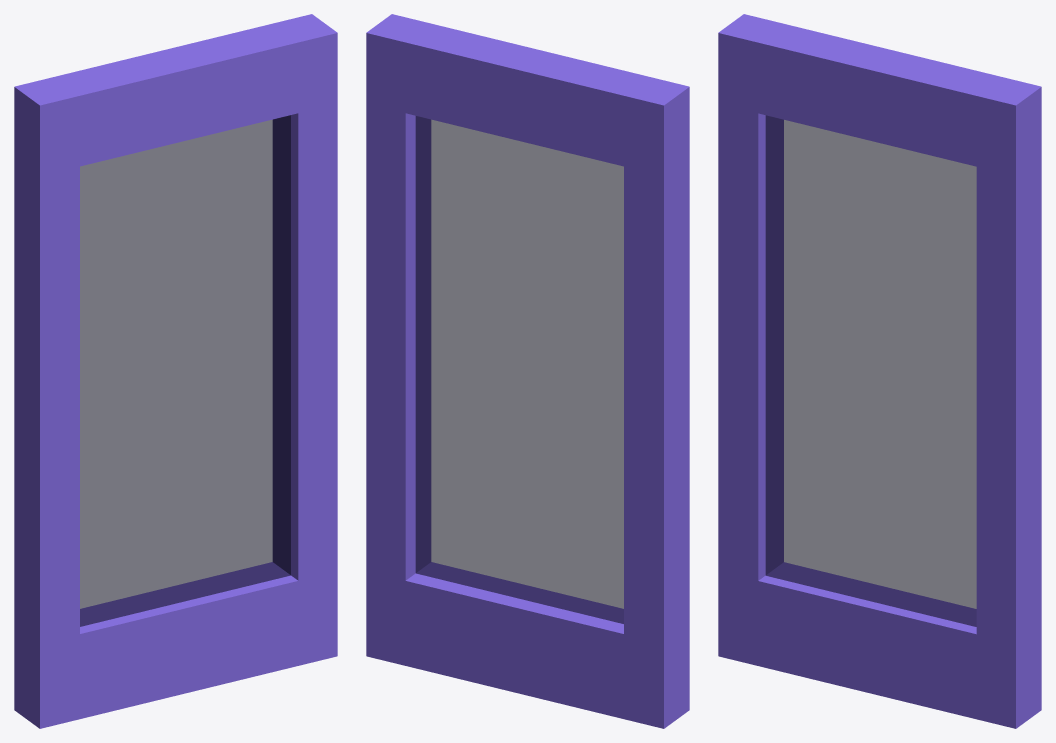
The model's file is PurpleWindowLarge.glb.
3 renders of one model, left to right at view 1: azimuth 30°, elevation 25°; view 2: azimuth 150°, elevation 25°; view 3: azimuth 330°, elevation 25°, orthographic.
Visible parts, largest first — view 1: wall_largeWindow_purple; view 2: wall_largeWindow_purple; view 3: wall_largeWindow_purple.
Boxes of the visible parts, x1,y1,x2,y2 form: wall_largeWindow_purple: (14,14,337,728); wall_largeWindow_purple: (366,14,689,728); wall_largeWindow_purple: (718,14,1041,728).
Size of what is drawn, in the model's own units: 2 by 4 by 0.3.
Materials: 2 (2 with a texture image).
